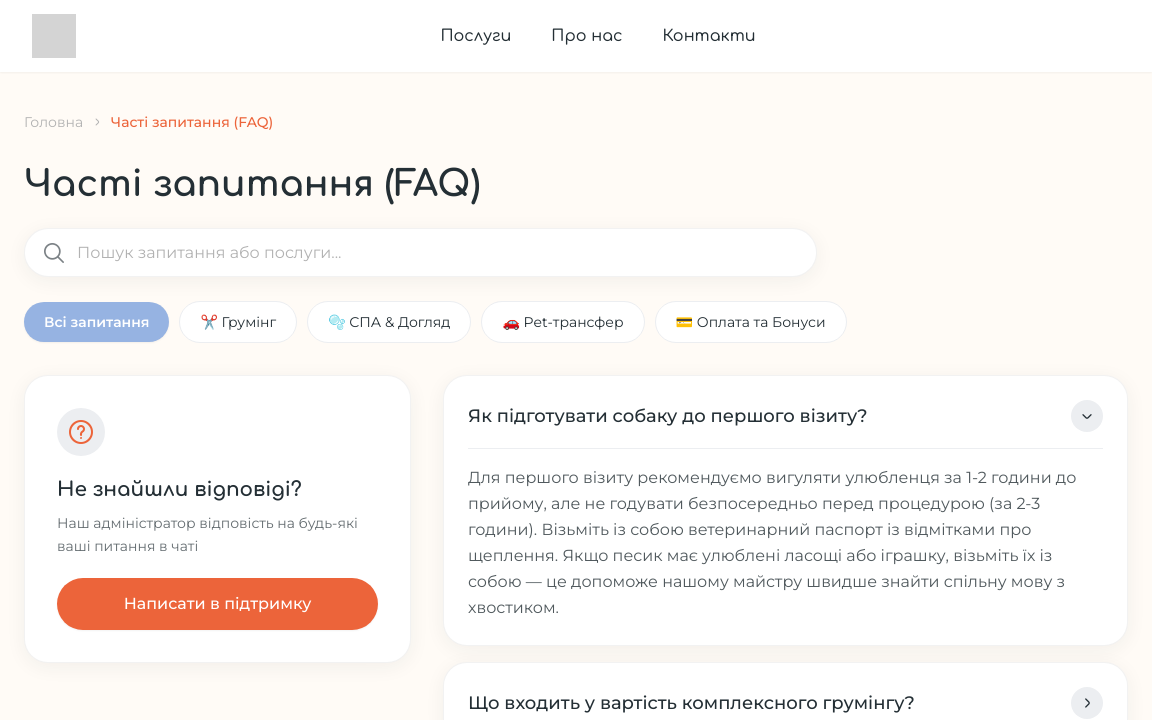
it: FaqPage › filters FAQ items by category tab pills
Click the tab "🚗 Pet-трансфер" at (563, 322), box [481, 301, 645, 343]
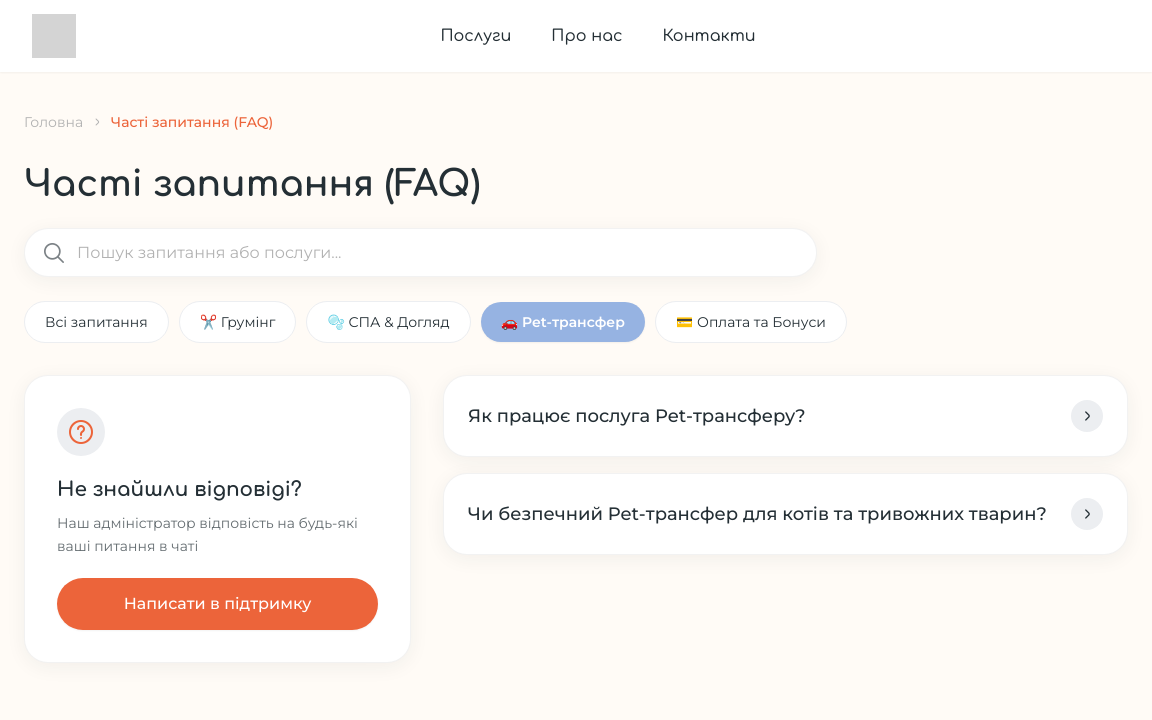
expect the text "Як працює послуга Pet-трансферу?" is shown: met, box [468, 404, 806, 428]
expect the button "Що входить у вартість комплексного грумінгу?" is gone: met
Click the tab "💳 Оплата та Бонуси" at (751, 322), box [655, 301, 847, 343]
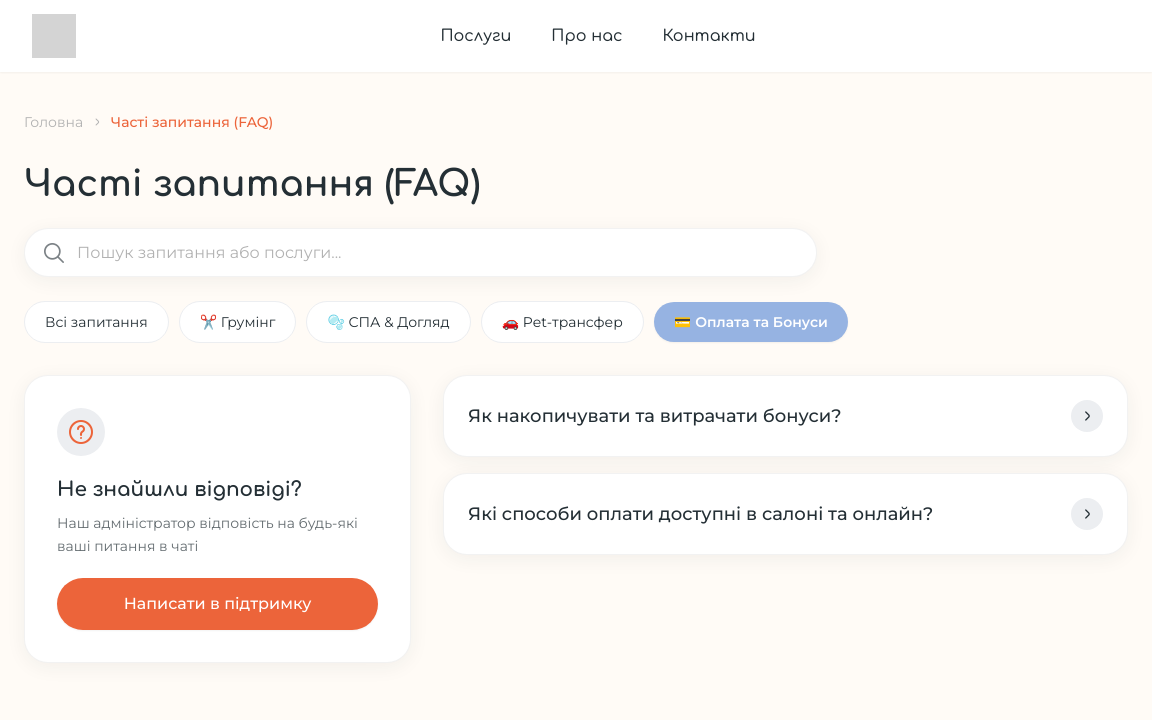
expect the text "Як накопичувати та витрачати бонуси?" is shown: met, box [468, 404, 842, 428]
expect the button "Як працює послуга Pet-трансферу?" is gone: met
